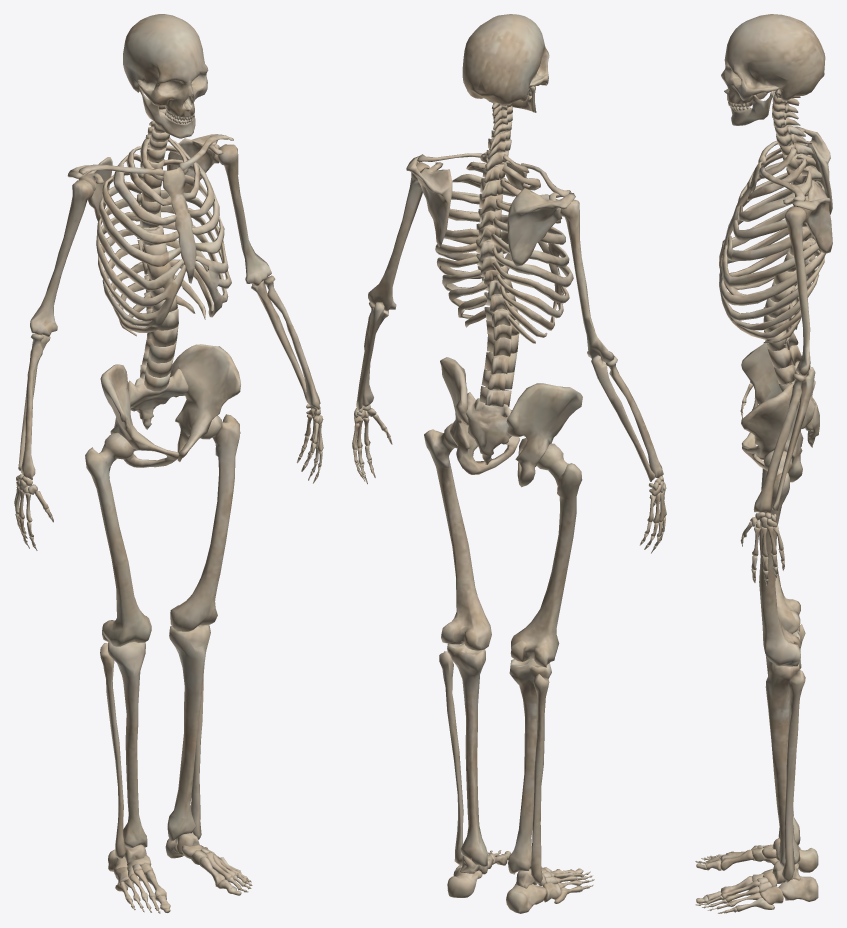
Rendered from skeleton-bones.glb.
3 views of the same model, side by side, from view 1: azimuth 30°, elevation 25°; view 2: azimuth 150°, elevation 25°; view 3: azimuth 270°, elevation 25° (orthographic).
Parts seen in each view (by area): view 1: SK_Side, SK_Coccyx, SK_Head, SK_LLegDown, SK_RLegDown, SK_RLegUp, SK_LLegUp, SK_Spine, SK_RArmUp, SK_RFoot, SK_LArmDown, SK_LFoot (+6 smaller); view 2: SK_Side, SK_Coccyx, SK_Spine, SK_Head, SK_RLegDown, SK_RLegUp, SK_LLegDown, SK_LLegUp, SK_RClavicle, SK_RFoot, SK_RArmDown, SK_LClavicle (+6 smaller); view 3: SK_Side, SK_Head, SK_LLegDown, SK_Coccyx, SK_Spine, SK_LLegUp, SK_LFoot, SK_LArmDown, SK_LClavicle, SK_LArmUp, SK_RFoot, SK_HandL (+3 smaller).
Boxes of the visible parts, <box> form: SK_Side: <box>96,137,231,336</box>; SK_Coccyx: <box>100,344,240,467</box>; SK_Head: <box>123,14,208,138</box>; SK_LLegDown: <box>167,625,210,840</box>; SK_RLegDown: <box>100,642,147,859</box>; SK_RLegUp: <box>85,432,151,646</box>; SK_LLegUp: <box>170,414,240,631</box>; SK_Spine: <box>136,105,178,391</box>; SK_RArmUp: <box>30,180,93,336</box>; SK_RFoot: <box>108,844,170,913</box>; SK_LArmDown: <box>251,275,320,409</box>; SK_LFoot: <box>165,832,252,895</box>; SK_Side: <box>435,152,573,343</box>; SK_Coccyx: <box>440,357,582,487</box>; SK_Spine: <box>475,103,519,406</box>; SK_Head: <box>462,14,549,112</box>; SK_RLegDown: <box>508,658,551,884</box>; SK_RLegUp: <box>510,443,582,667</box>; SK_LLegDown: <box>439,643,487,867</box>; SK_LLegUp: <box>424,423,491,650</box>; SK_RClavicle: <box>507,163,575,266</box>; SK_RFoot: <box>506,867,594,913</box>; SK_RArmDown: <box>591,355,663,481</box>; SK_LClavicle: <box>406,153,482,247</box>; SK_Side: <box>719,144,825,344</box>; SK_Head: <box>721,14,825,125</box>; SK_LLegDown: <box>765,660,805,882</box>; SK_Coccyx: <box>741,343,819,482</box>; SK_Spine: <box>763,91,825,392</box>; SK_LLegUp: <box>759,450,800,666</box>; SK_LFoot: <box>695,861,818,913</box>; SK_LArmDown: <box>753,366,815,512</box>; SK_LClavicle: <box>758,167,832,253</box>; SK_LArmUp: <box>784,206,810,375</box>; SK_RFoot: <box>695,838,818,872</box>; SK_HandL: <box>740,512,784,585</box>.
Size of the model in its own units: 1.23 by 3.36 by 0.483.
1 material, 1 textured.
